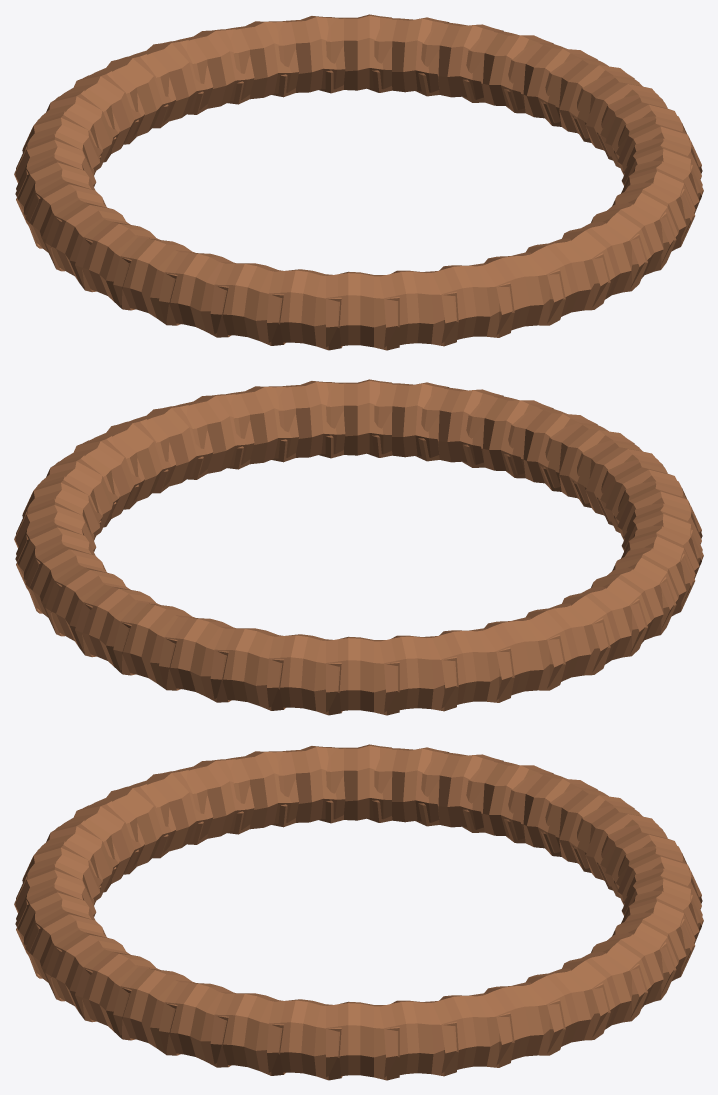
File: TitleStage.gltf
3 renders of one model, top to bottom at view 1: azimuth 30°, elevation 25°; view 2: azimuth 150°, elevation 25°; view 3: azimuth 270°, elevation 25°, orthographic.
Parts seen in each view (by area): view 1: Cave; view 2: Cave; view 3: Cave.
Boxes of the visible parts, x1=… form: Cave: x1=14, y1=14, x2=703, y2=350; Cave: x1=14, y1=379, x2=703, y2=715; Cave: x1=14, y1=744, x2=703, y2=1080.
Bounding box in the file's own units: 198 × 21.7 × 198.
2 materials, 2 textured.
